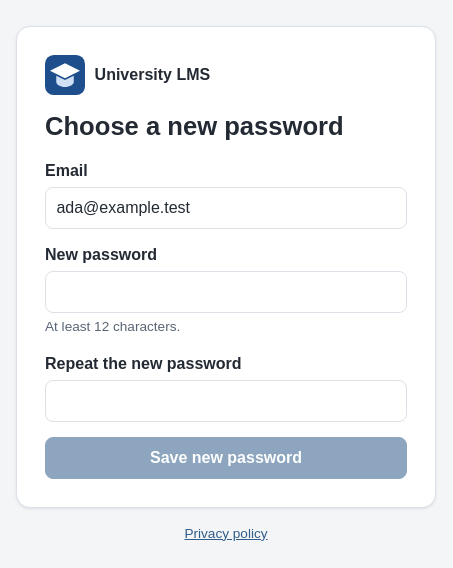
Test: password reset › sets a new password from the emailed link, checking the two entries match
expect the field labelled "Email" holds "ada@example.test": met, box [45,187,407,229]
Type "a-brand-new-passphrase" into the password field labelled "New password" at (226, 292), box [45,271,407,313]
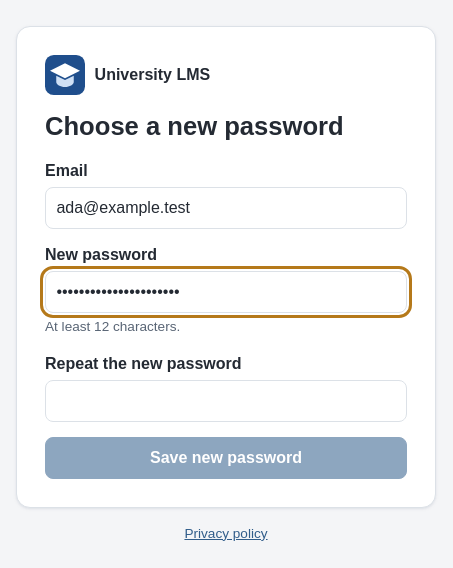
Type "a-different-passphrase" into the password field labelled "Repeat the new password" at (226, 401), box [45,380,407,422]
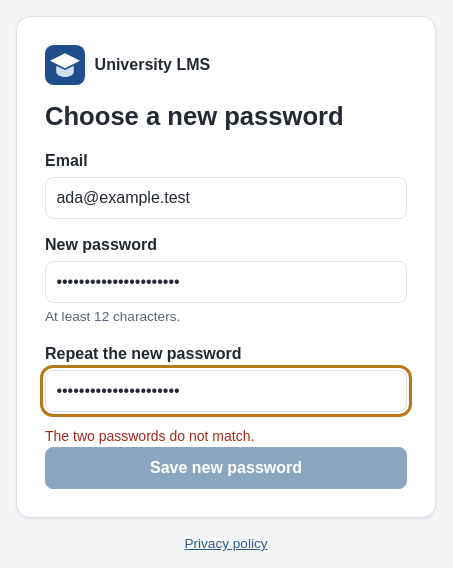
expect the button "Save new password" is disabled: met, box [45,447,407,489]
expect the text "The two passwords do not match." is shown: met, box [45,428,254,444]
Clear the password field labelled "Repeat the new password" at (226, 391), box [45,370,407,412]
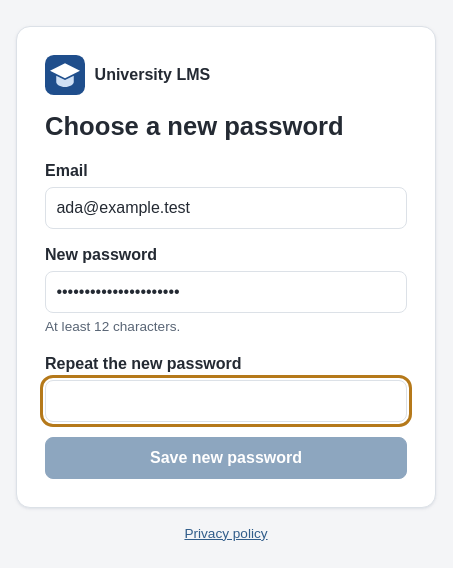
Type "a-brand-new-passphrase" into the password field labelled "Repeat the new password" at (226, 401), box [45,380,407,422]
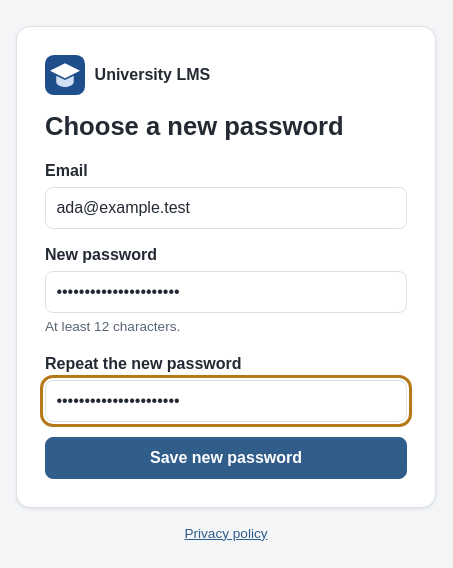
Click the button "Save new password" at (226, 458), box [45,437,407,479]
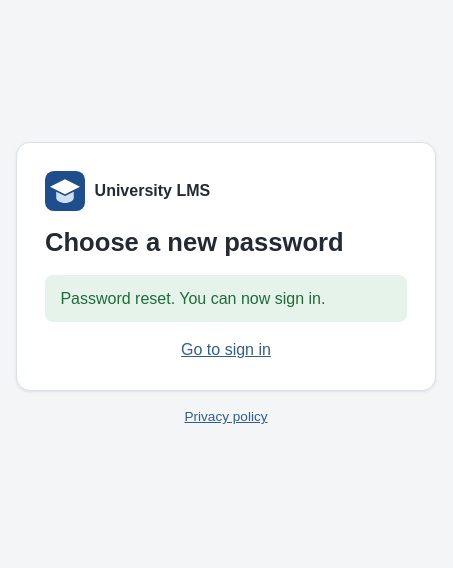
expect the text "Password reset. You can now sign in." is shown: met, box [45,275,407,322]
